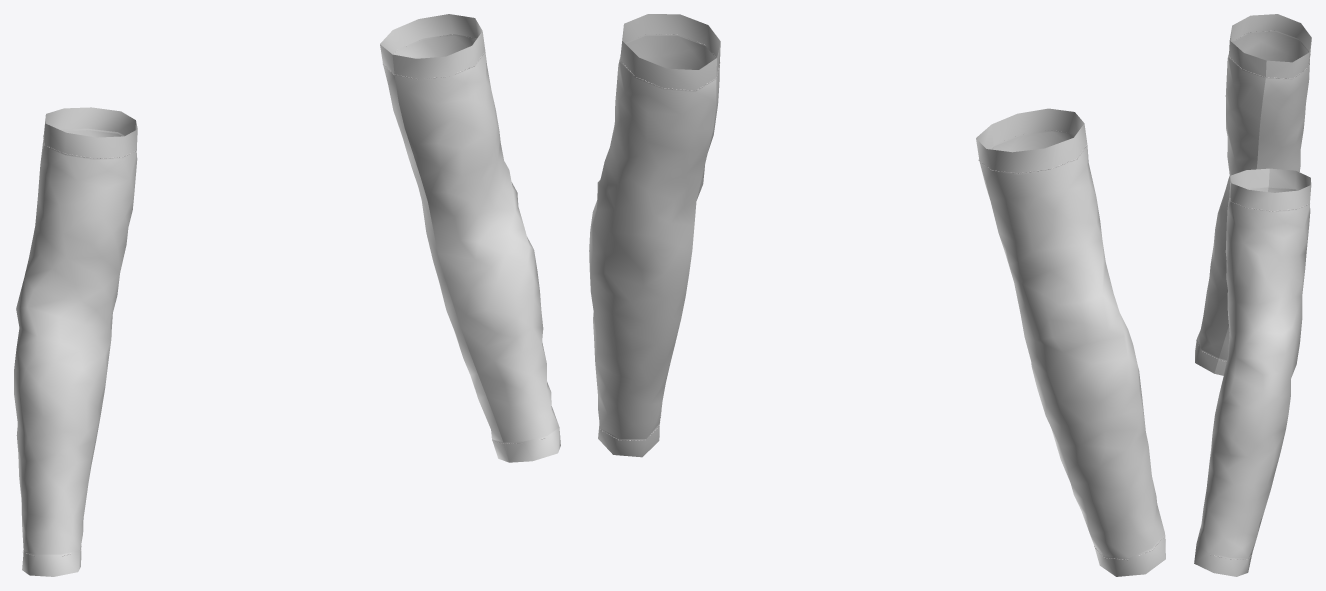
File: Manicotti OCTOPUS.draco.glb
3 renders of one model, left to right at view 1: azimuth 30°, elevation 25°; view 2: azimuth 150°, elevation 25°; view 3: azimuth 270°, elevation 25°, orthographic. The views are drawn at different scales.
Visible parts, largest first — view 1: OCTOPUS.2, OCTOPUS.1; view 2: OCTOPUS.1, OCTOPUS.2; view 3: OCTOPUS.2, OCTOPUS.1, OCTOPUS.
Boxes of the visible parts, bbox=[...] form: OCTOPUS.2: bbox=[380, 14, 560, 462]; OCTOPUS.1: bbox=[14, 107, 137, 576]; OCTOPUS.1: bbox=[976, 108, 1165, 576]; OCTOPUS.2: bbox=[589, 14, 720, 457]; OCTOPUS.2: bbox=[1194, 168, 1311, 576]; OCTOPUS.1: bbox=[1195, 14, 1311, 375]; OCTOPUS: bbox=[1196, 30, 1310, 559].
Bounding box in the file's own units: 52.13 × 40.08 × 11.58.
Materials: 3 (1 with a texture image).
